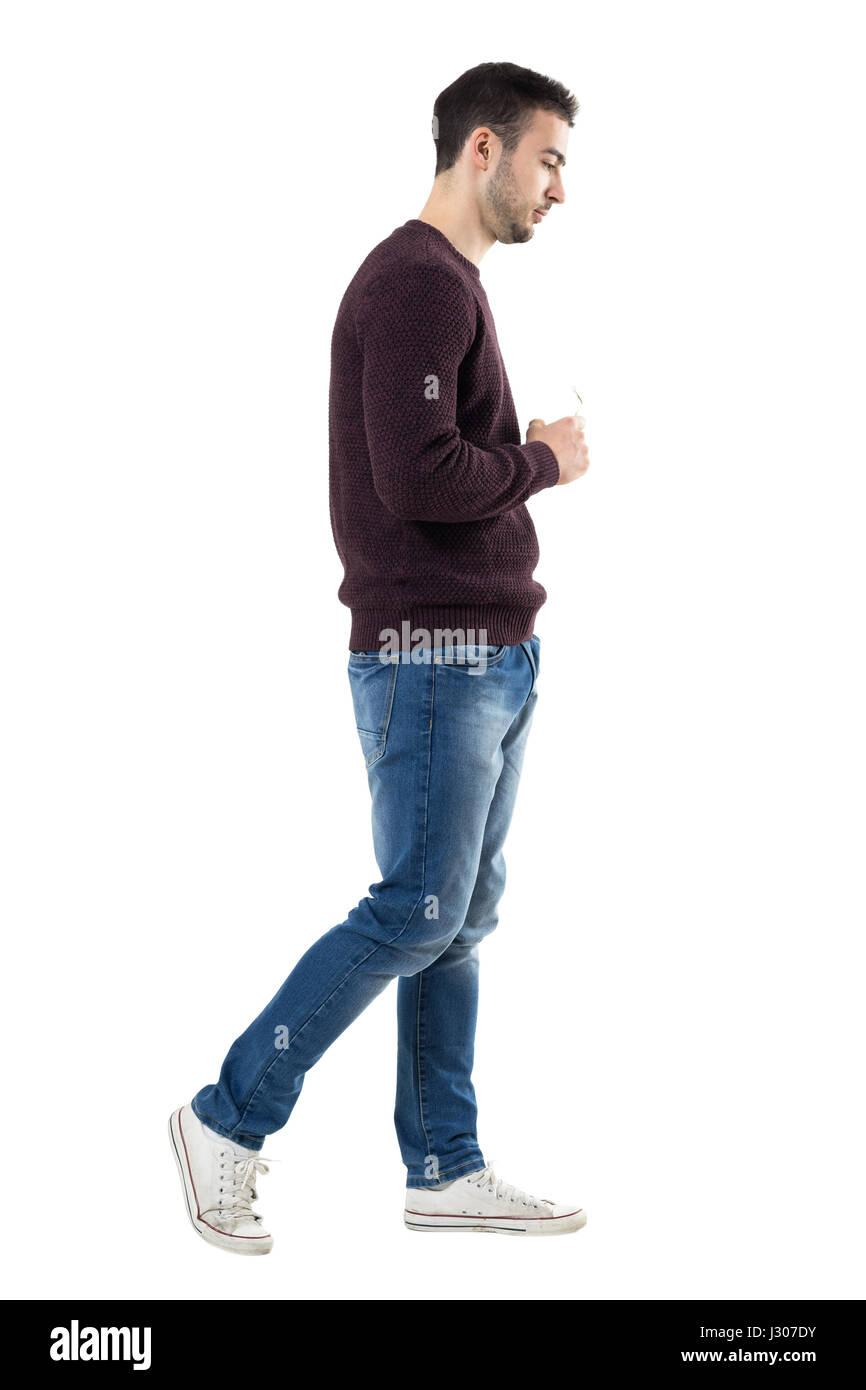sweater: (319, 214, 559, 662)
trousers: (190, 632, 549, 1193)
